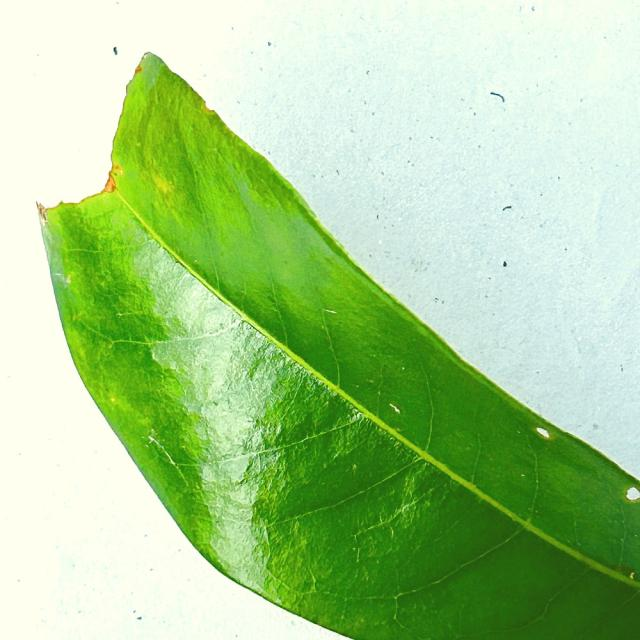Deficiency Leaf: (28, 65, 130, 207)
Lychee: (36, 53, 639, 639)
